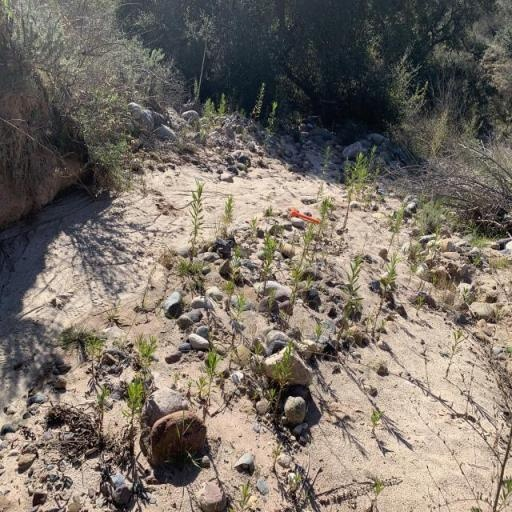mallet: (290, 206, 320, 224)
